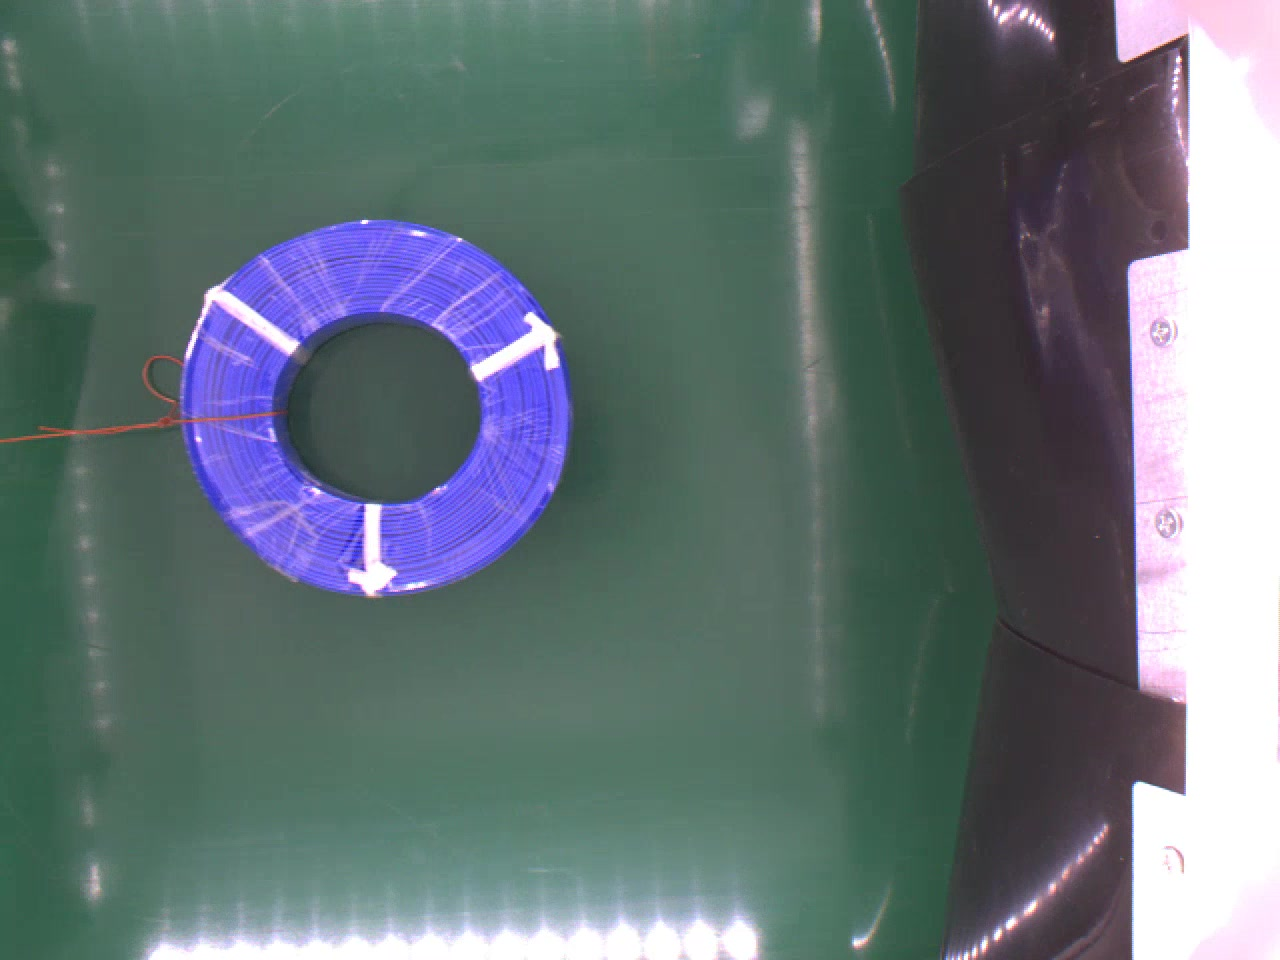blue: (184, 218, 575, 596)
